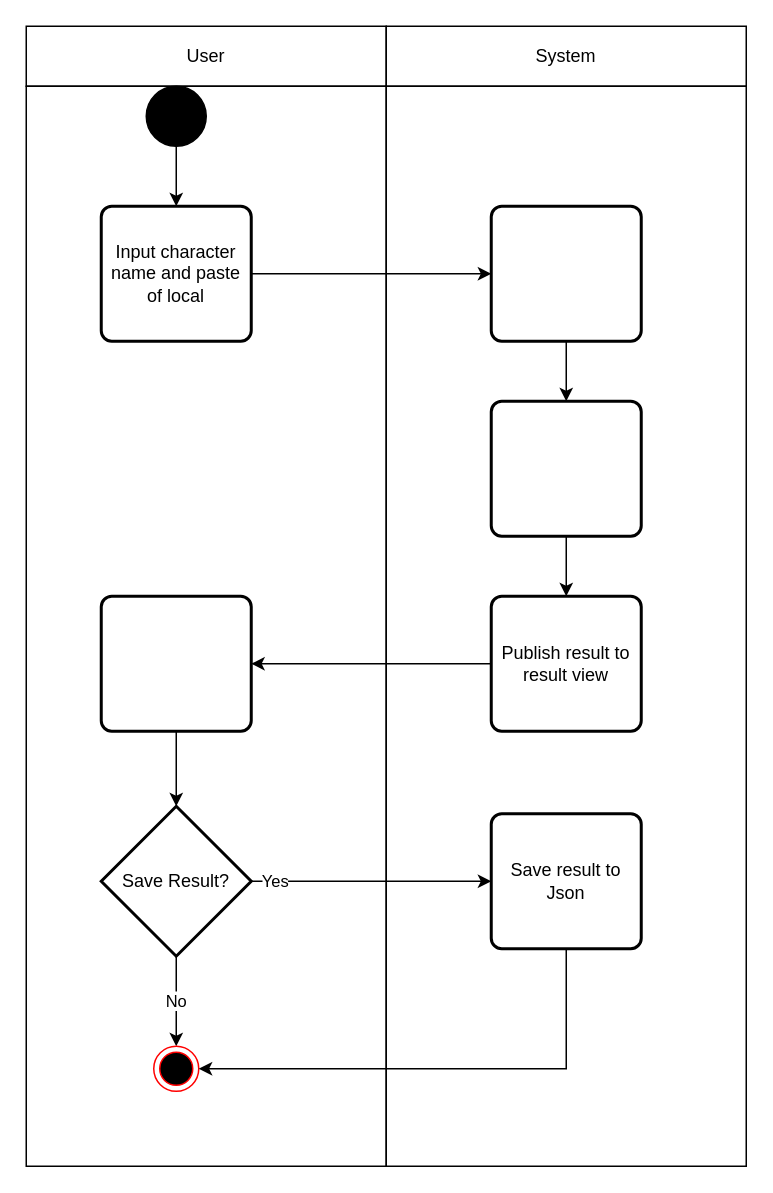
Some shapes in this 773 by 1193 pixel diagram are drawn without their labels. The box of each missing label's shape, as (x1, y1, x2, y2) in pixels:
Query alliance history per corp during time of membership: (489, 399, 642, 537)
Query ESI API for all chars corp history: (489, 204, 642, 342)
View result: (99, 594, 252, 732)
